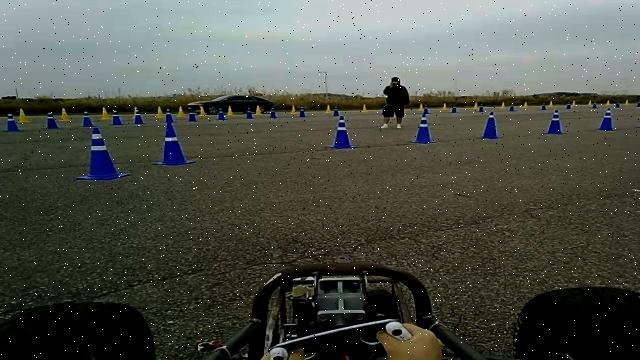blue cone: (75, 127, 130, 180), (152, 114, 195, 166), (327, 115, 357, 149), (409, 108, 436, 143), (476, 111, 503, 139), (542, 109, 566, 134), (597, 107, 614, 131), (635, 106, 640, 128)
